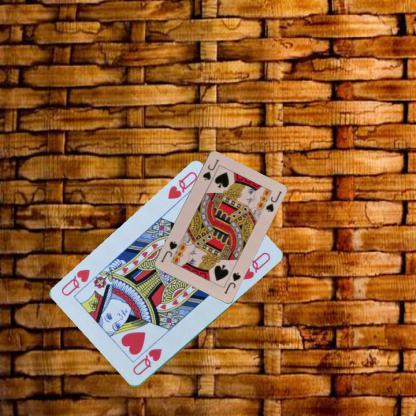Js: (221, 269, 242, 295), (200, 156, 220, 182)
Qh: (164, 169, 198, 201), (130, 346, 164, 377)
